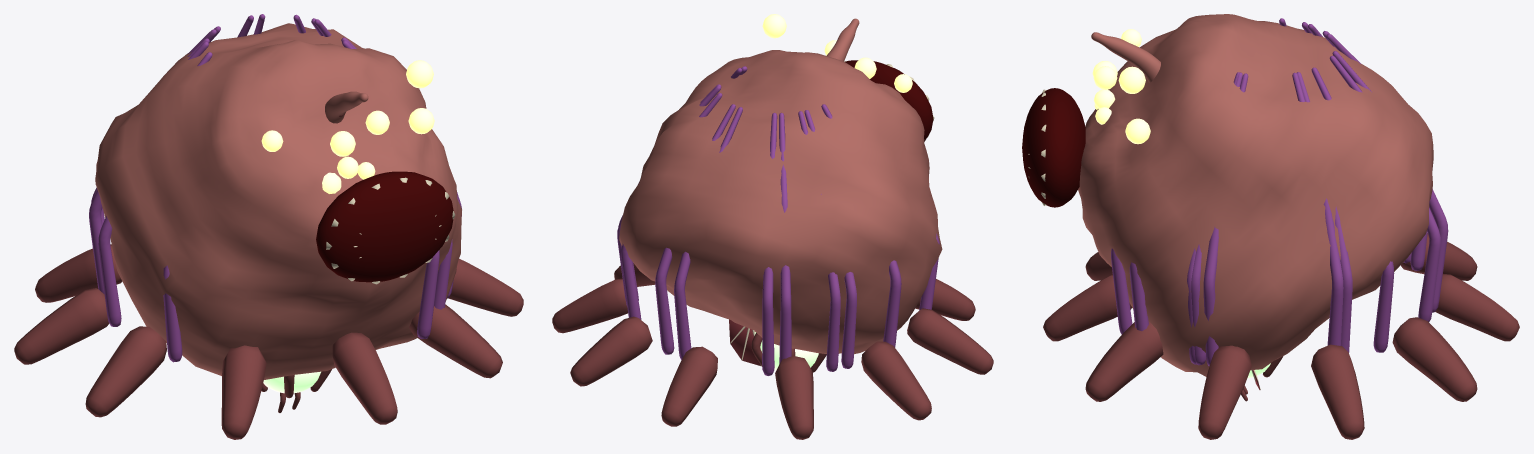
The model's file is airportzombie.glb.
The picture shows the model from 3 angles, left to right: view 1: azimuth 30°, elevation 25°; view 2: azimuth 150°, elevation 25°; view 3: azimuth 270°, elevation 25°; orthographic projection. The views are drawn at different scales.
Visible parts, largest first — view 1: mother_body, mother_core, mother_tentacle; view 2: mother_body, flyer_wing, mother_core, mother_tentacle; view 3: mother_body, mother_tentacle.
Part boxes in pixels (<box>): mother_body: <box>14,14,523,439</box>; mother_core: <box>261,369,331,398</box>; mother_tentacle: <box>325,91,368,123</box>; mother_body: <box>552,14,993,439</box>; flyer_wing: <box>729,319,761,366</box>; mother_core: <box>751,332,826,372</box>; mother_tentacle: <box>826,18,859,61</box>; mother_body: <box>1022,14,1519,439</box>; mother_tentacle: <box>1091,32,1160,82</box>.
Bounding box in the file's own units: 7.46 × 6.2 × 7.58.
